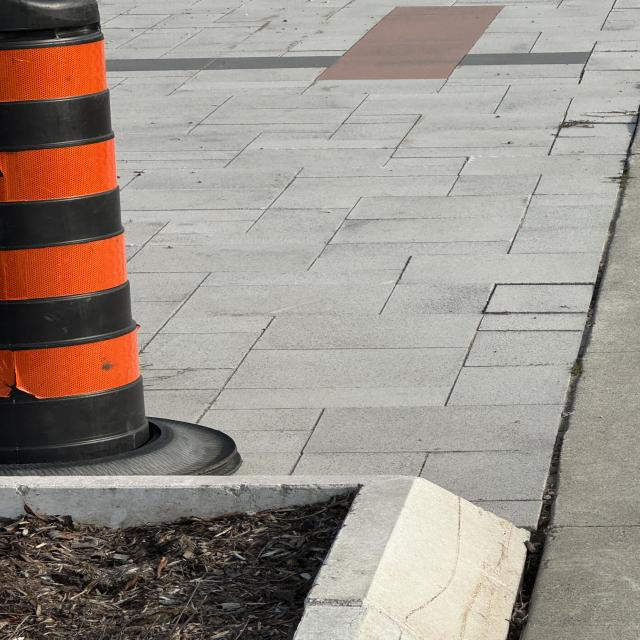Teraffic Barrel: (0, 0, 239, 474)
